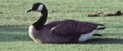goose: (24, 1, 108, 48)
